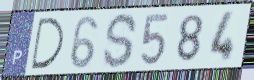4: (207, 9, 238, 64)
5: (137, 11, 173, 67)
6: (67, 14, 99, 71)
8: (175, 13, 207, 63)
D: (30, 16, 66, 71)
S: (101, 11, 140, 70)
